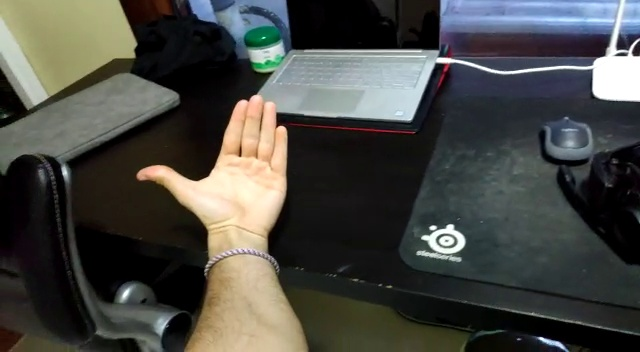Palm: (136, 91, 291, 236)
